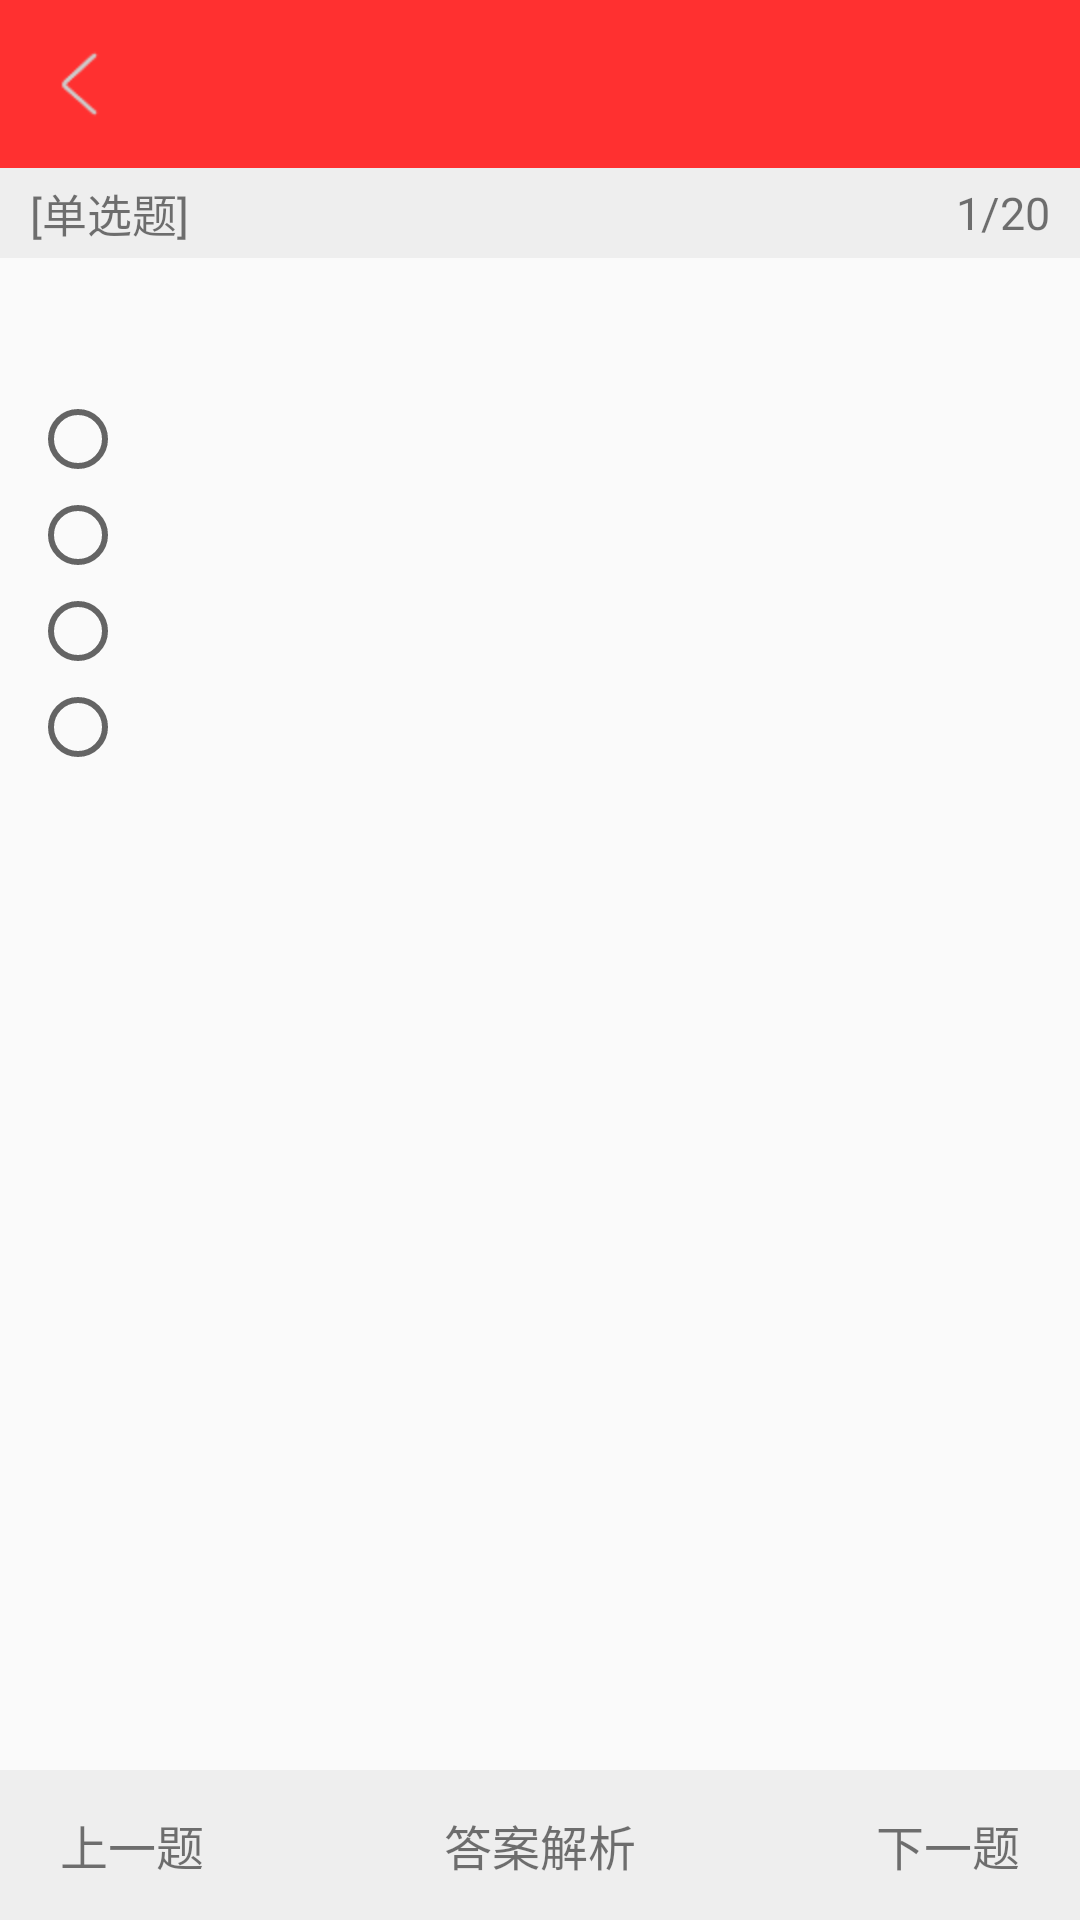

Icons on this 1080x1920 Android screen, each with its box as box=[x1, y1, x2, y2]:
back: box=[61, 53, 97, 115]
